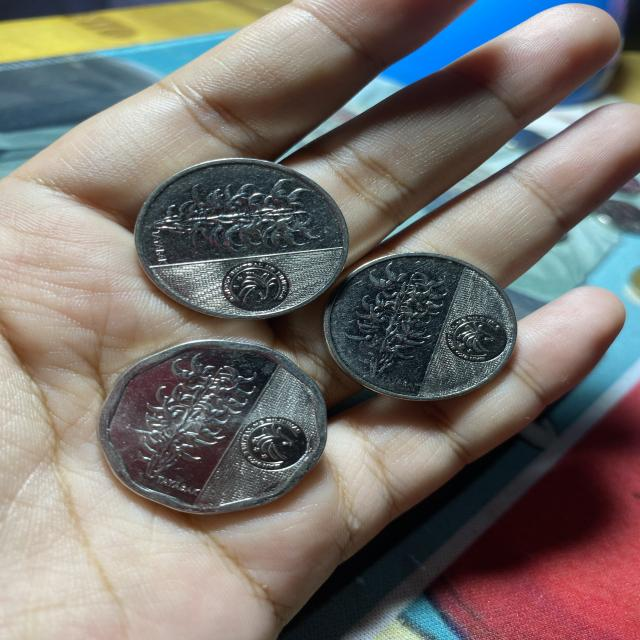5_New_Back: (130, 358, 254, 482), (156, 185, 313, 253), (347, 262, 434, 381)
